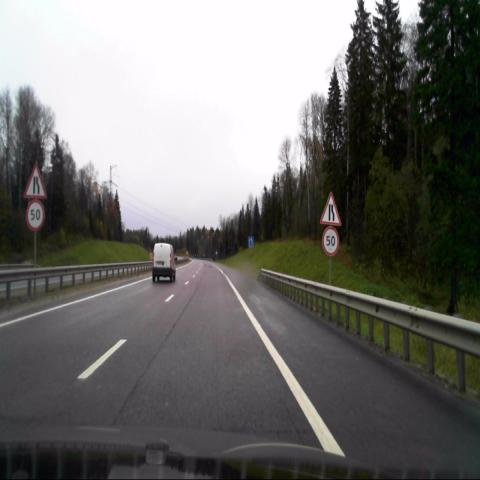1_20_2: (24, 162, 47, 199), (320, 191, 342, 225)
